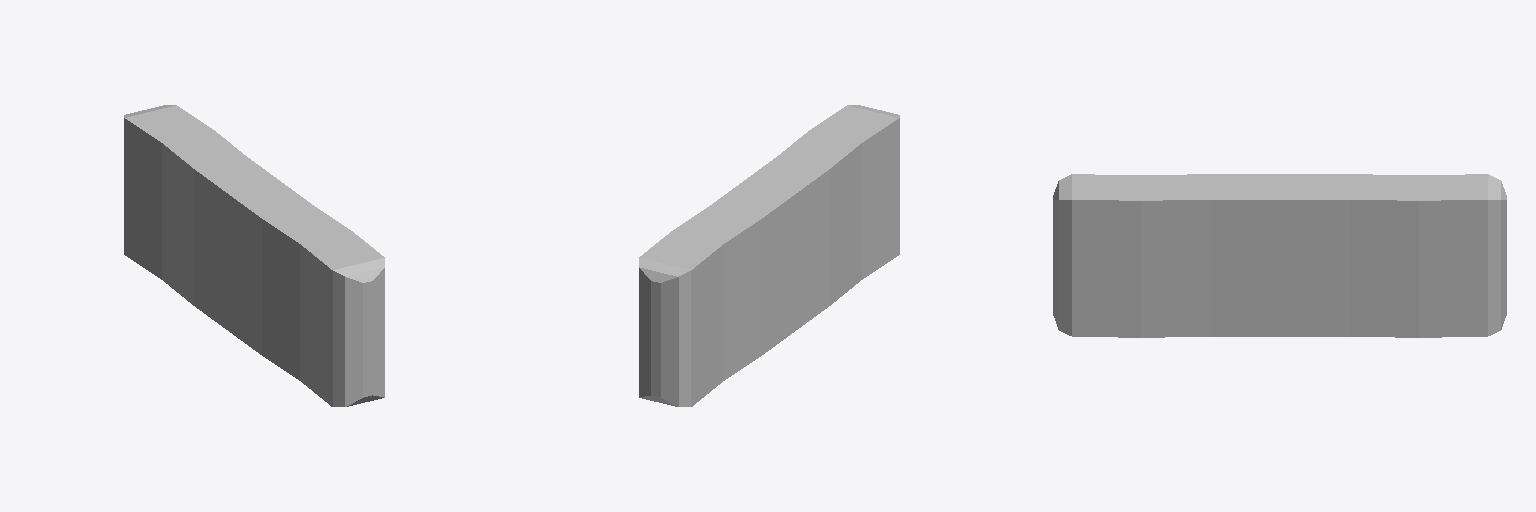
File: Ramp Ball Door.obj
The picture shows the model from 3 angles: view 1: azimuth 30°, elevation 25°; view 2: azimuth 150°, elevation 25°; view 3: azimuth 270°, elevation 25°; orthographic projection.
Visible parts, largest first — view 1: Cube; view 2: Cube; view 3: Cube.
Boxes of the visible parts, x1,y1,x2,y2 form: Cube: [124, 105, 384, 406]; Cube: [639, 105, 899, 406]; Cube: [1053, 174, 1506, 337].
Size of the model in its own units: 0.21 by 0.5 by 1.5.